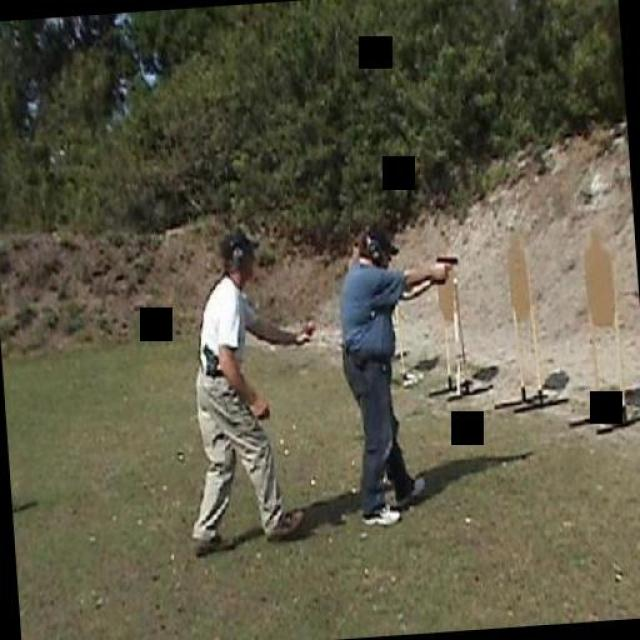gun: (430, 254, 459, 282)
